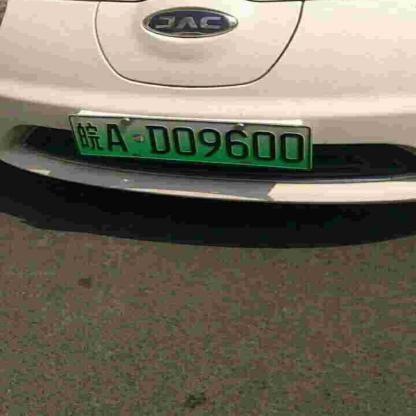lp: (68, 115, 310, 169)
